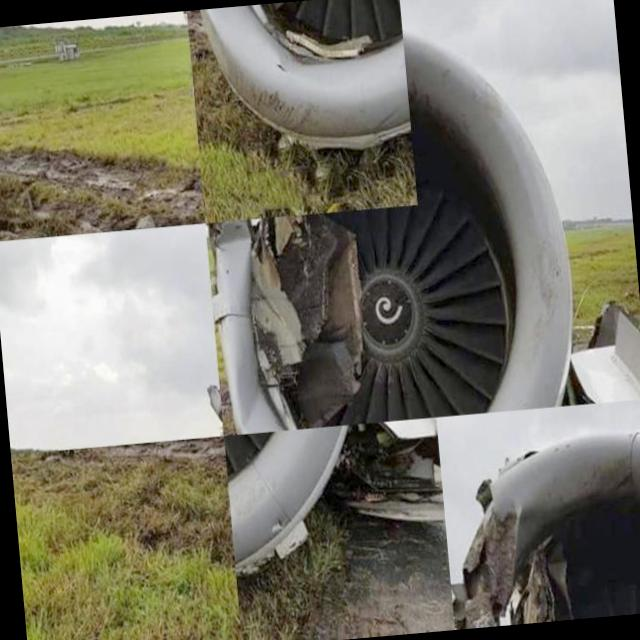dent: (228, 361, 266, 432)
